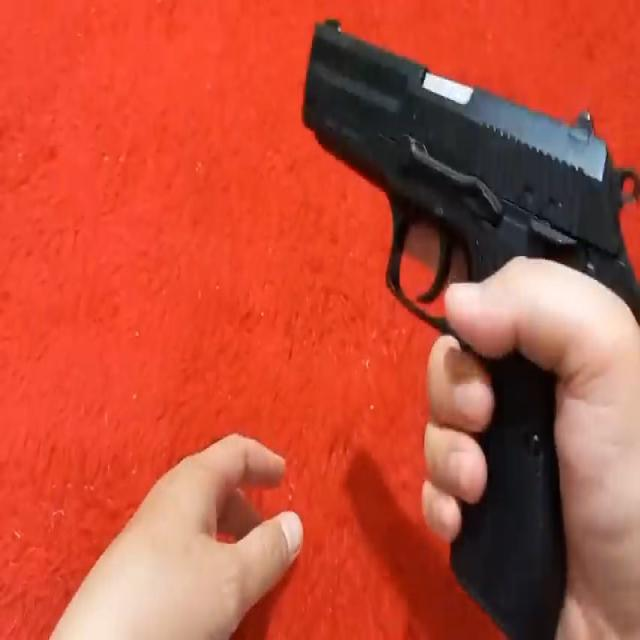handgun: (290, 0, 640, 637)
